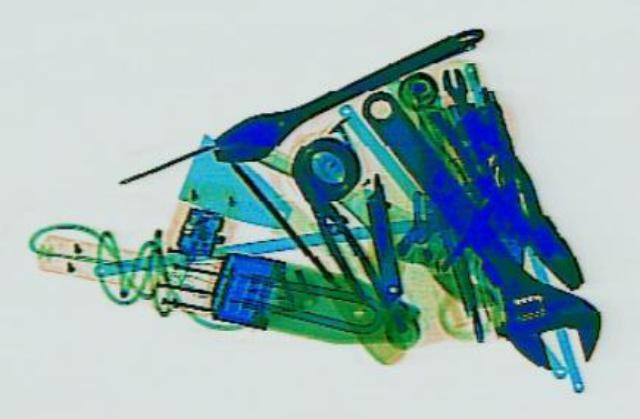Pliers: (407, 84, 611, 295), (288, 176, 396, 311)
Wrench: (318, 78, 624, 373), (434, 65, 478, 122)
